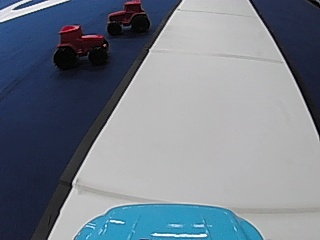tractor: (50, 21, 109, 69), (105, 0, 152, 35)
